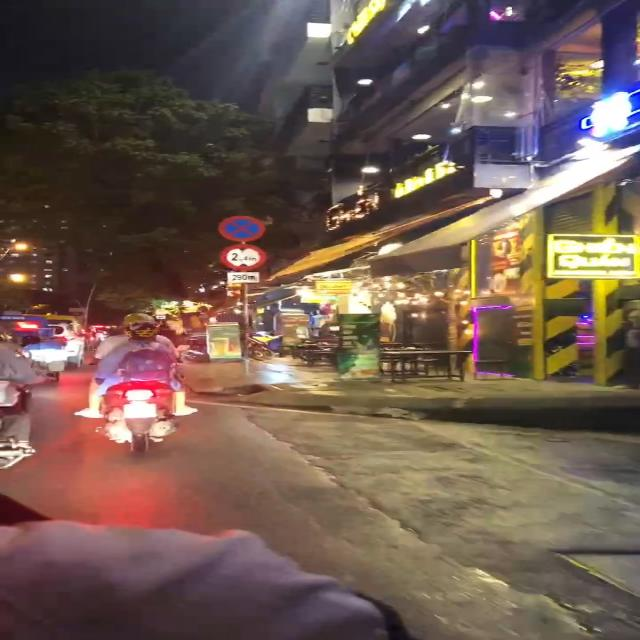Bien bao cam dung xe va do xe: (214, 212, 266, 244)
Bien bao han che chieu cao: (219, 243, 268, 272)
